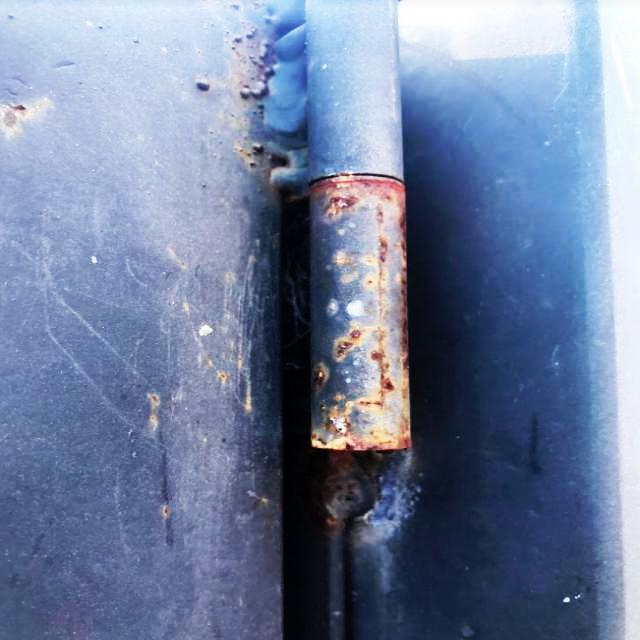Corrosion: (307, 173, 411, 531)
